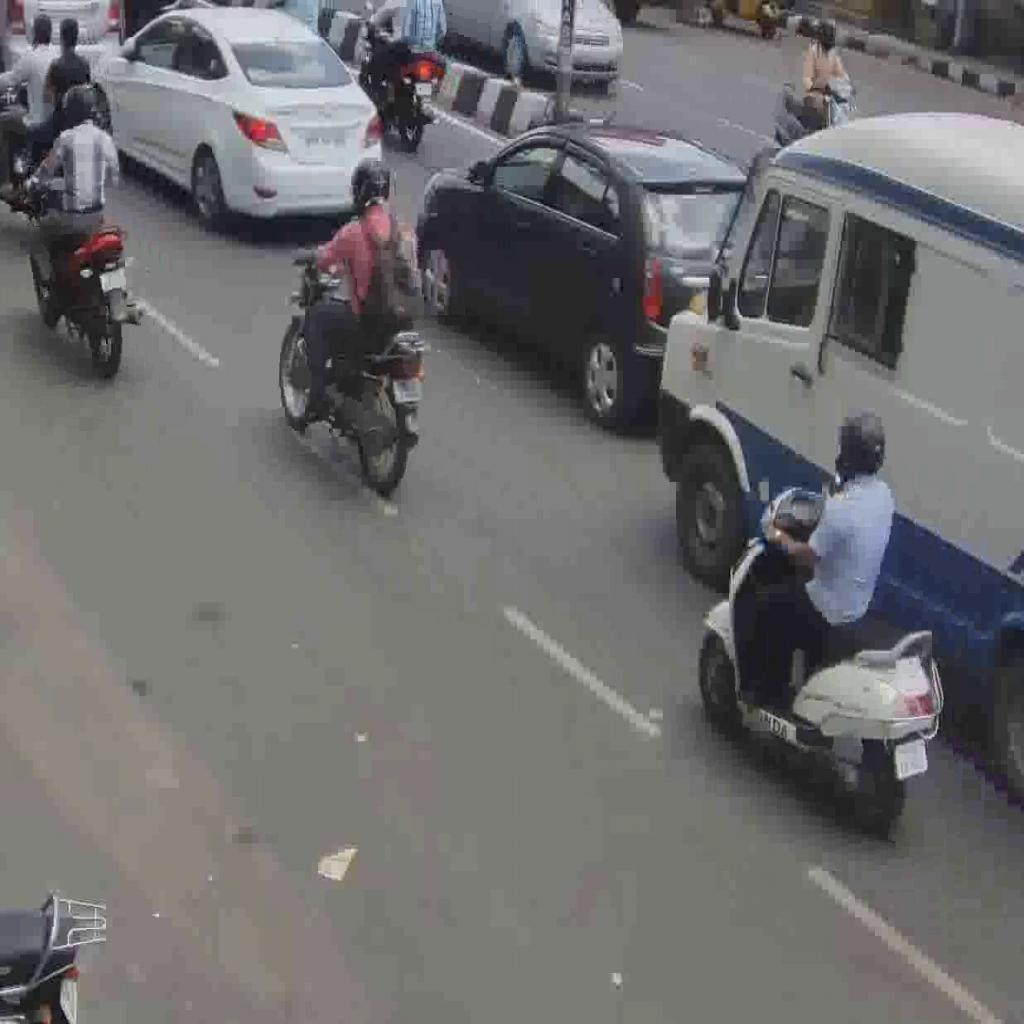bike: (696, 481, 947, 840), (277, 251, 432, 495), (22, 147, 146, 378), (356, 6, 438, 152)
helmet: (834, 408, 888, 482), (349, 155, 393, 215), (60, 83, 100, 129)
lisc: (895, 738, 928, 780), (392, 377, 422, 403), (99, 267, 127, 293), (416, 82, 432, 96)
noise: (772, 12, 863, 149)
rider: (737, 406, 895, 706), (292, 153, 420, 414), (22, 82, 121, 306)
